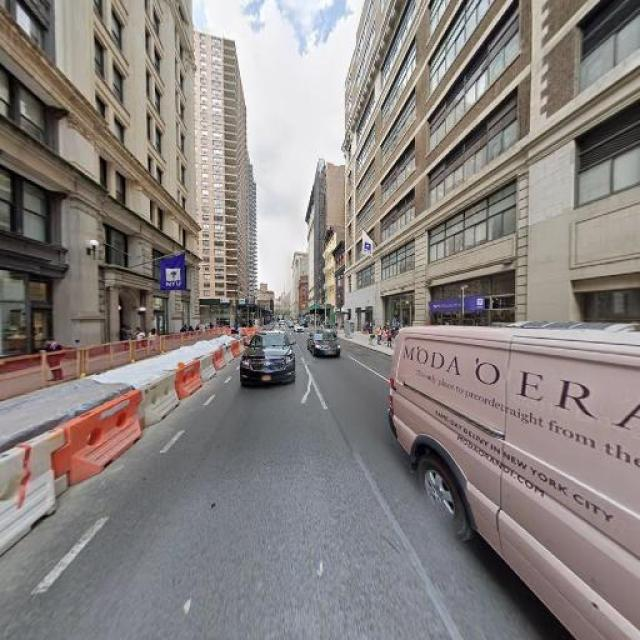Building: (345, 1, 640, 377), (1, 1, 198, 379)
